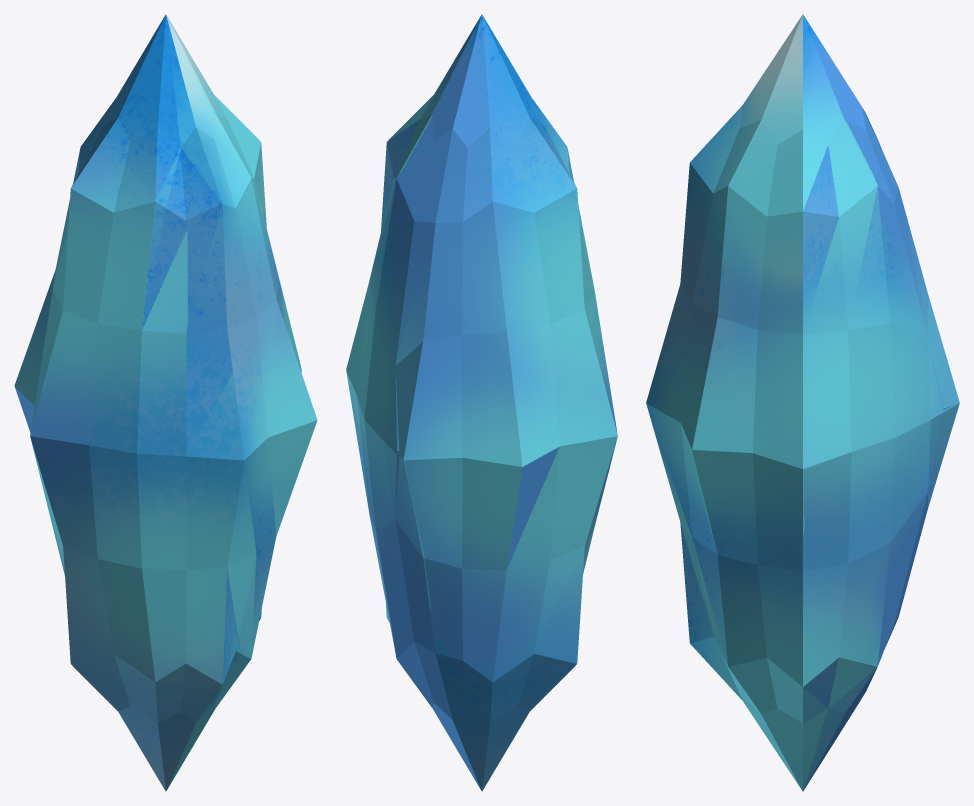
File: crystal.fbx
3 views of the same model, side by side, from view 1: azimuth 30°, elevation 25°; view 2: azimuth 150°, elevation 25°; view 3: azimuth 270°, elevation 25° (orthographic).
Parts seen in each view (by area): view 1: CRI; view 2: CRI; view 3: CRI.
Part boxes in pixels (x1,y1,x2,y2): CRI: (14,14,317,791); CRI: (346,14,617,791); CRI: (646,14,959,791).
Size of the model in its own units: 200 by 547 by 200.
